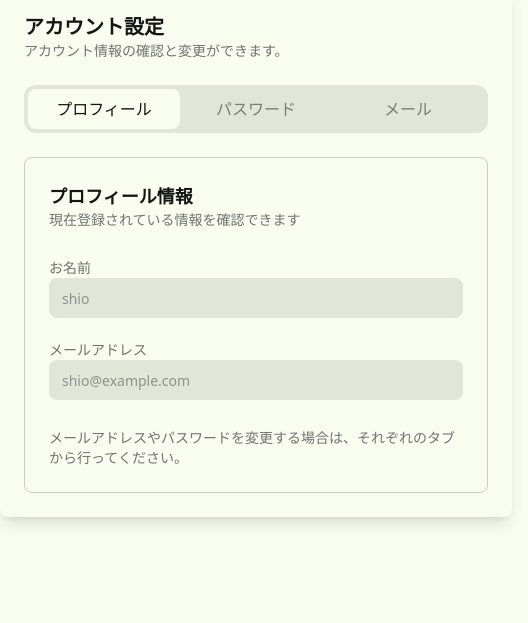
Test: AccountSetting › 通常アカウント › タブの切り替えが正常に動作する
// パスワードタブをクリック
What coordinates should you click on to do the following:
click the tab "パスワード"
I would click on:
 (256, 109)
Its box is left=180, top=89, right=332, bottom=129.
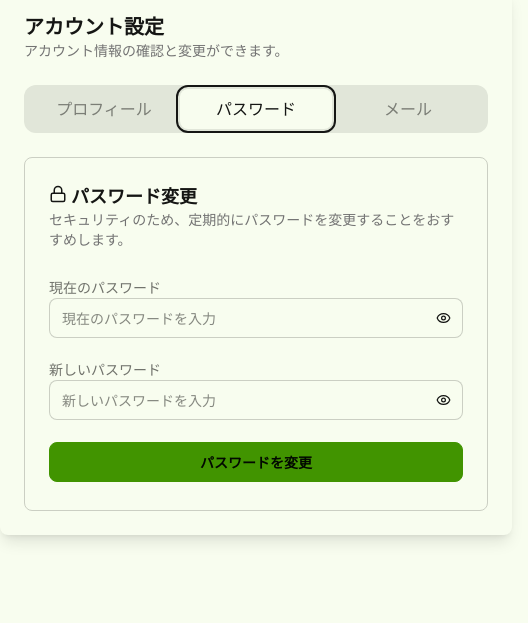
Expected: the password field labelled "現在のパスワード" is shown, left=49, top=298, right=463, bottom=338
Expected: the password field labelled "新しいパスワード" is shown, left=49, top=380, right=463, bottom=420
Expected: the button "パスワードを変更" is shown, left=49, top=442, right=463, bottom=482
// メールタブをクリック
What coordinates should you click on to do the following:
click the tab "メール"
I would click on:
 (408, 109)
Its box is left=332, top=89, right=484, bottom=129.
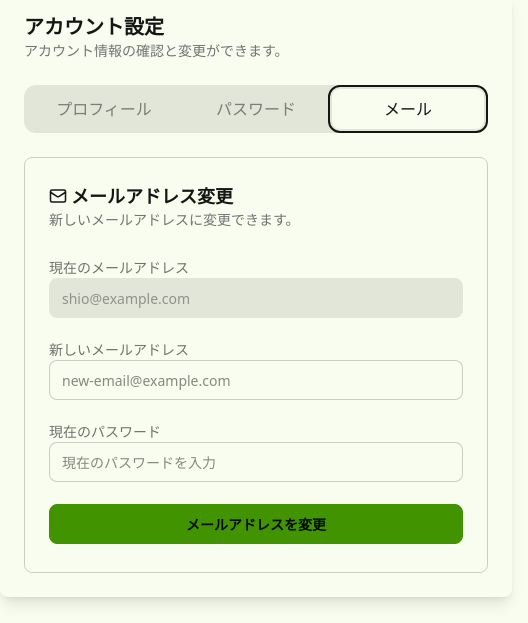
Expected: the field labelled "現在のメールアドレス" is shown, left=49, top=278, right=463, bottom=318
Expected: the field labelled "新しいメールアドレス" is shown, left=49, top=360, right=463, bottom=400
Expected: the button "メールアドレスを変更" is shown, left=49, top=504, right=463, bottom=544
